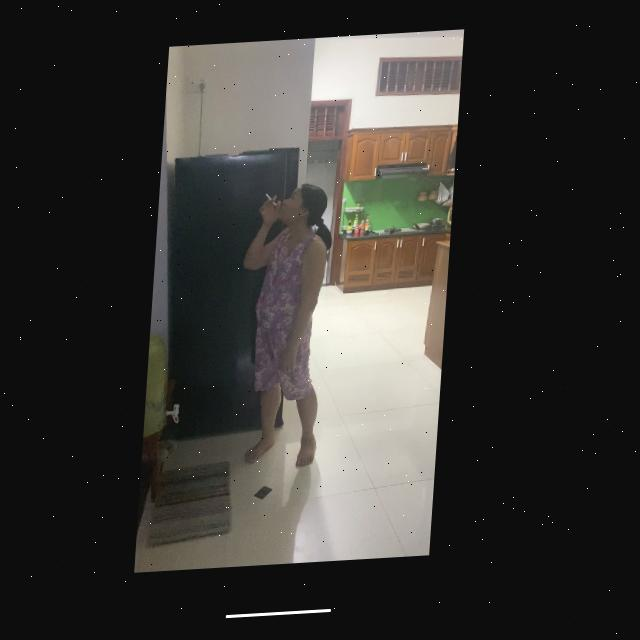cigarette: (267, 196, 280, 210)
